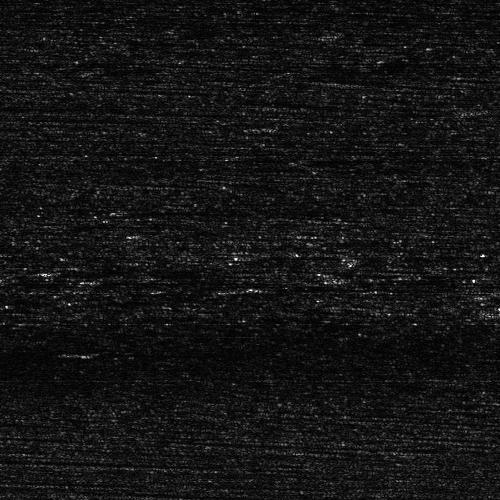object: (218, 283, 271, 290), (55, 352, 108, 357), (23, 269, 64, 274)
shadow: (81, 352, 336, 357), (0, 100, 113, 109), (44, 269, 216, 274), (245, 283, 335, 290)
